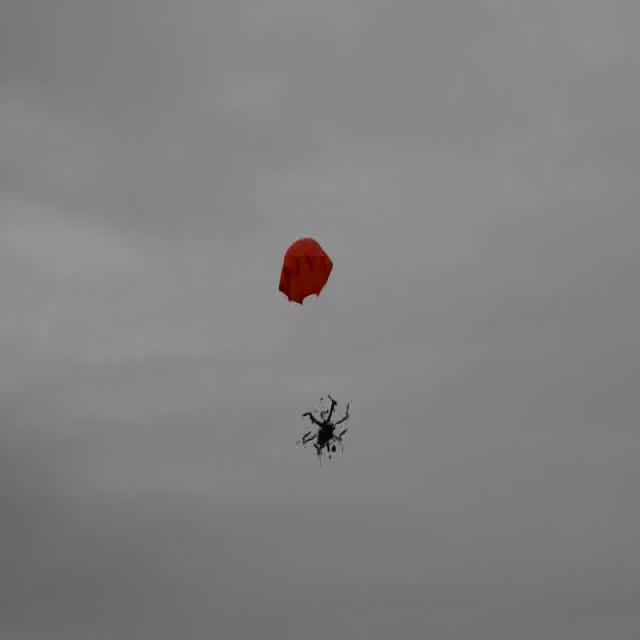drone: (294, 389, 354, 468)
